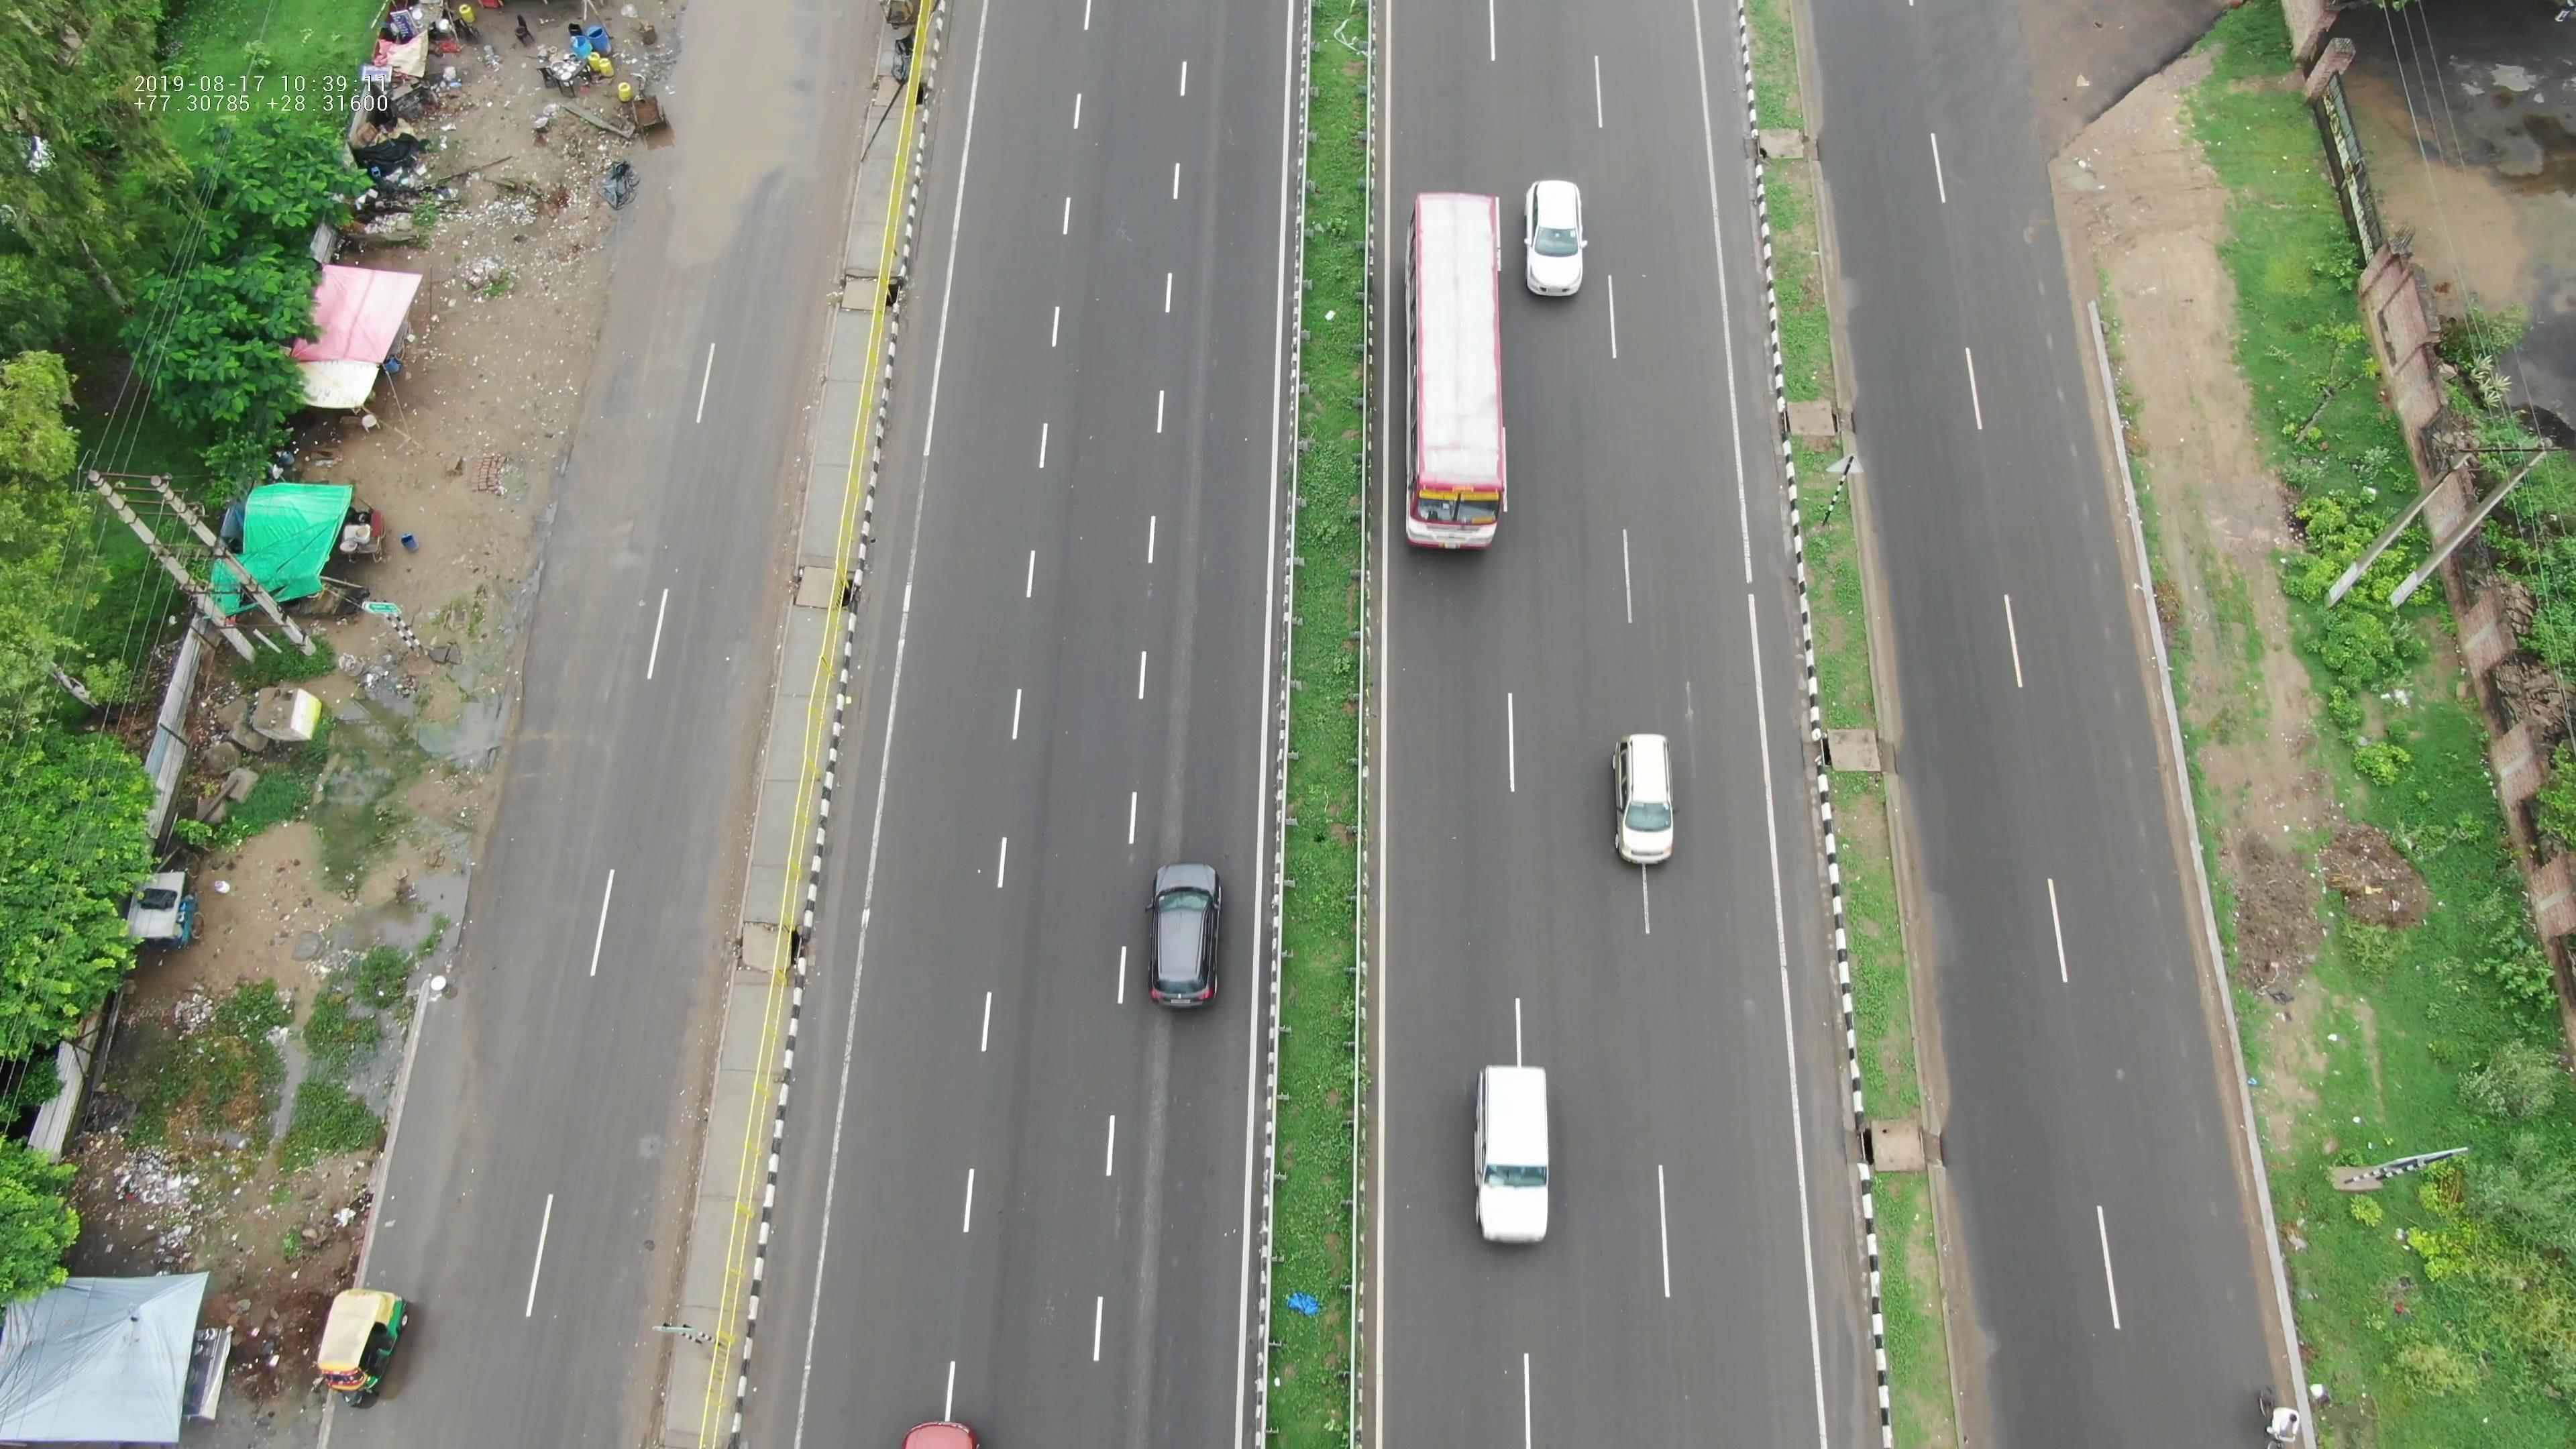Potholes: (2102, 715, 2180, 985), (2026, 320, 2104, 513), (2068, 513, 2144, 708), (2164, 1001, 2222, 1221), (2008, 175, 2058, 338), (582, 497, 663, 591)
